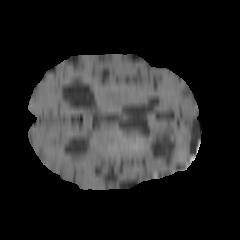glioma: (129, 117, 179, 170)
